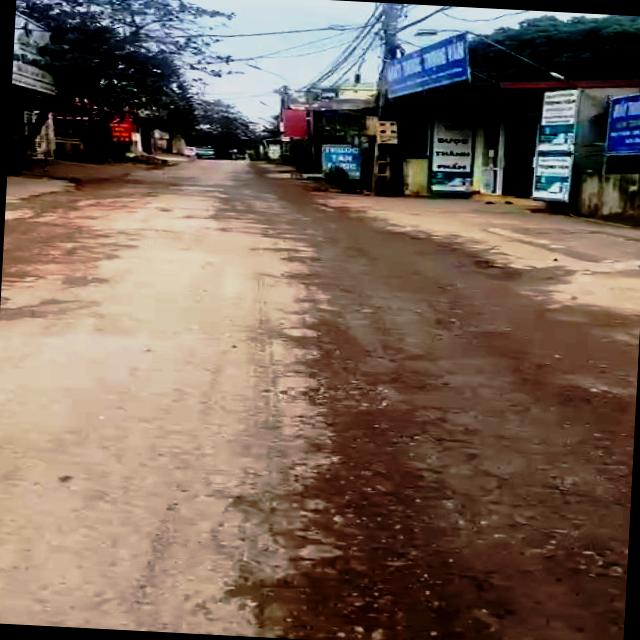pothole: (222, 531, 511, 640)
